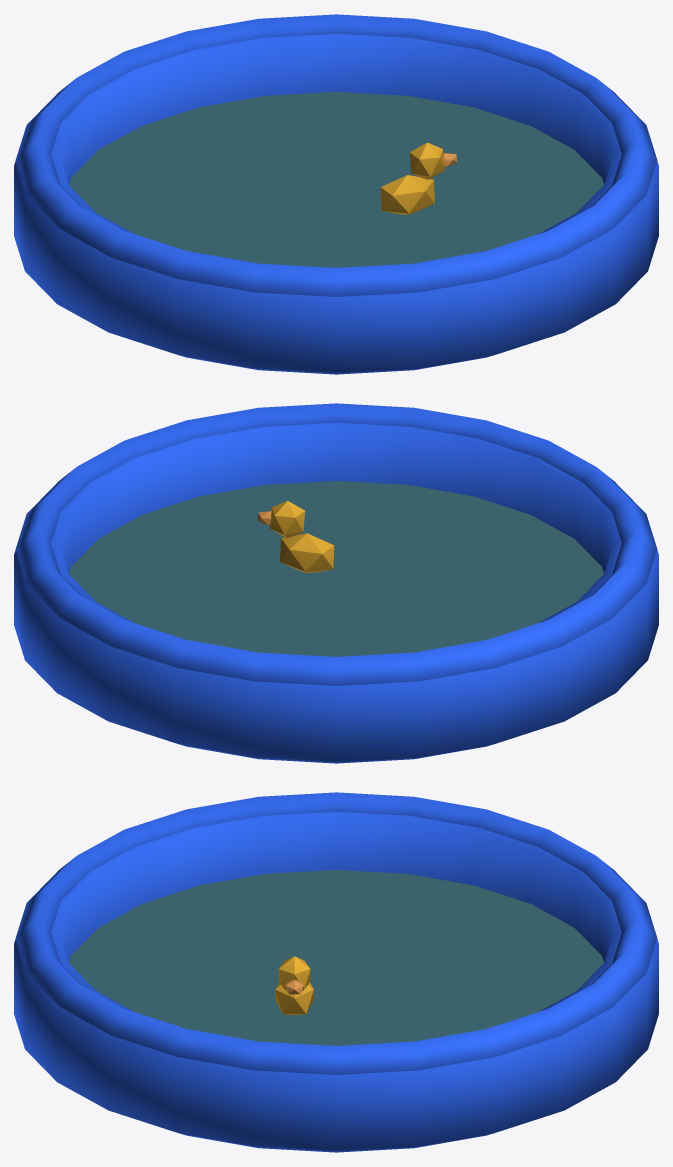
Rendered from prop.kiddie-pool.lod1.glb.
3 views of the same model, one above another, from view 1: azimuth 30°, elevation 25°; view 2: azimuth 150°, elevation 25°; view 3: azimuth 270°, elevation 25° (orthographic).
Bounding box in the file's own units: 2 × 0.365 × 2.
